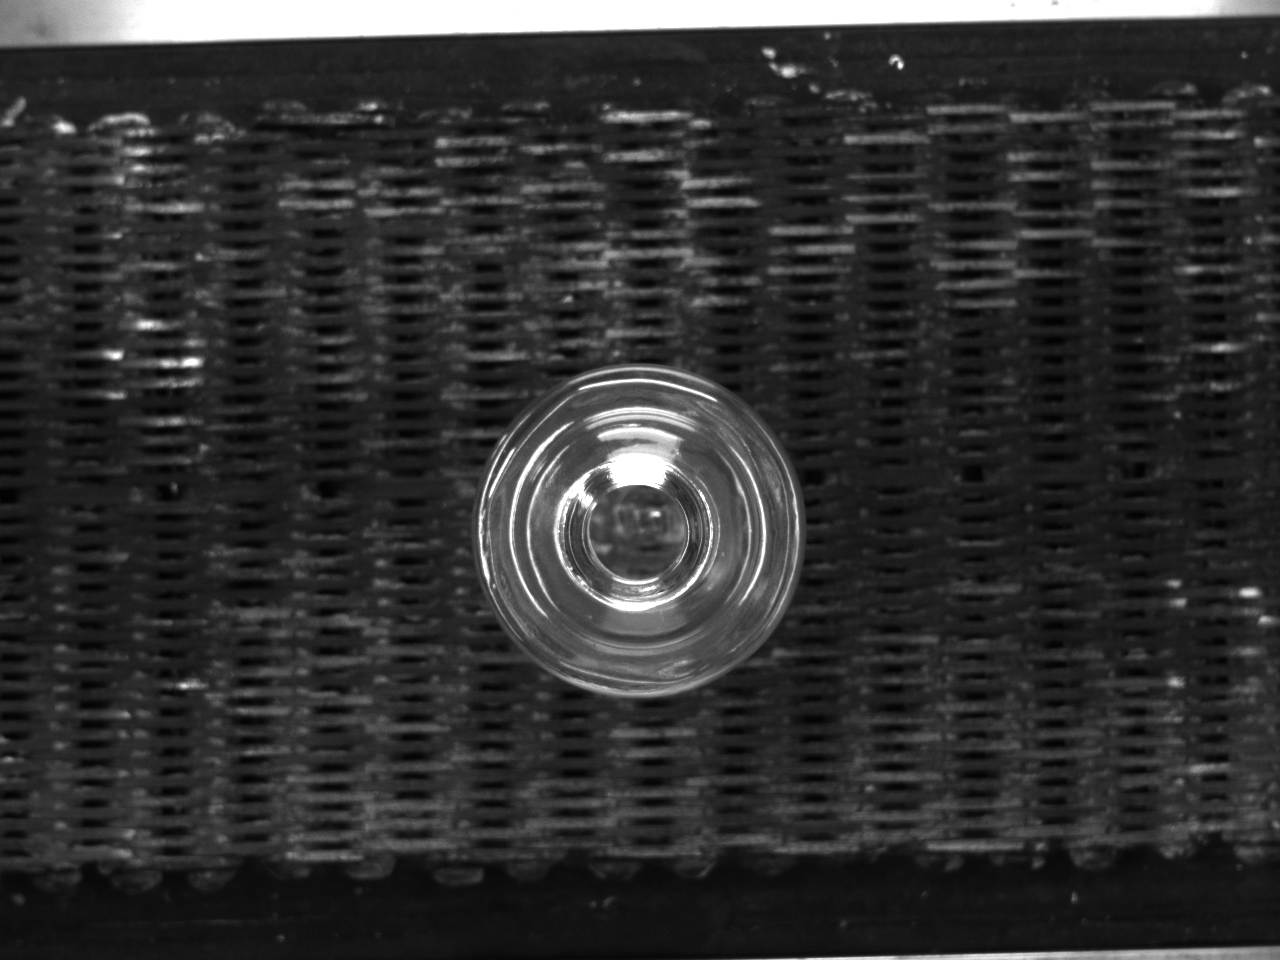bottleneck: (560, 453, 715, 611)
